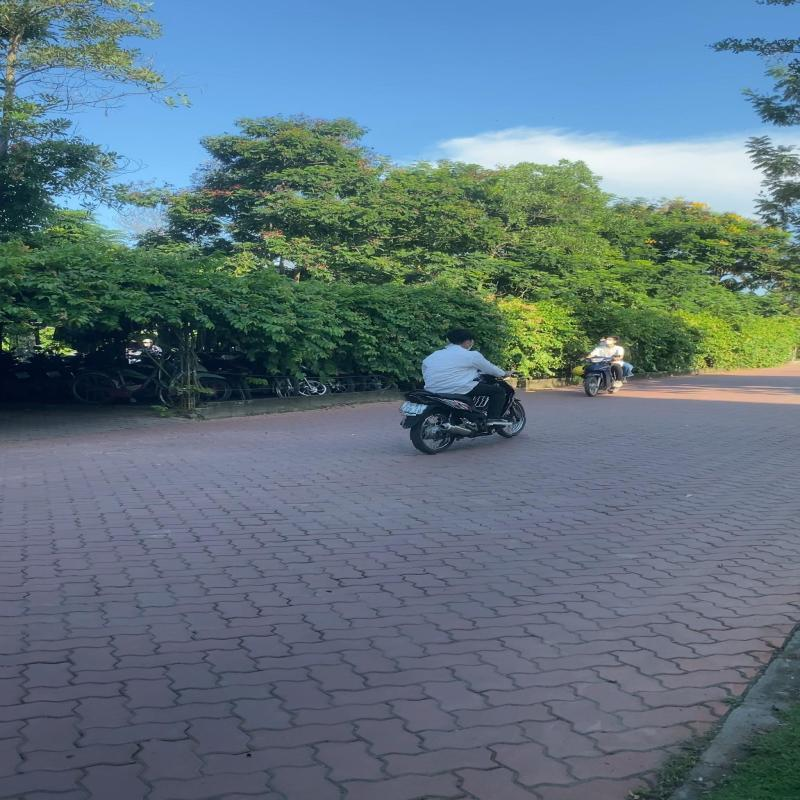licenseplate: (398, 401, 428, 415)
motorcyclist: (398, 326, 528, 454)
nohelmet: (446, 329, 477, 351)
